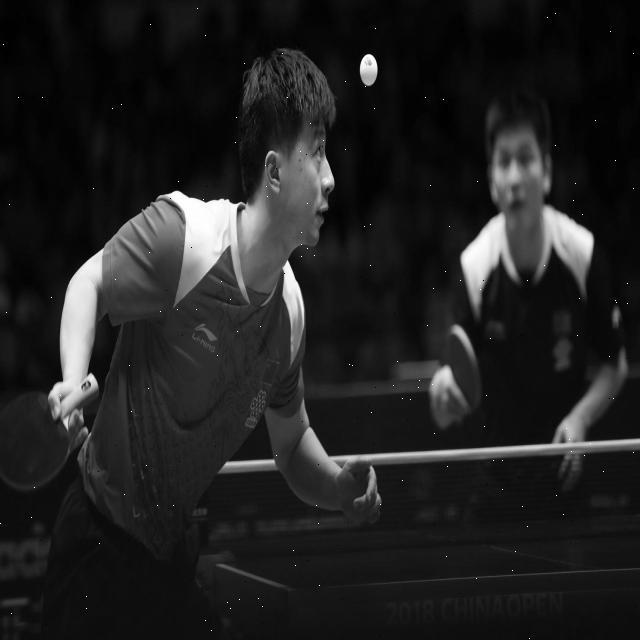ping-pong-ball: (356, 45, 379, 94)
